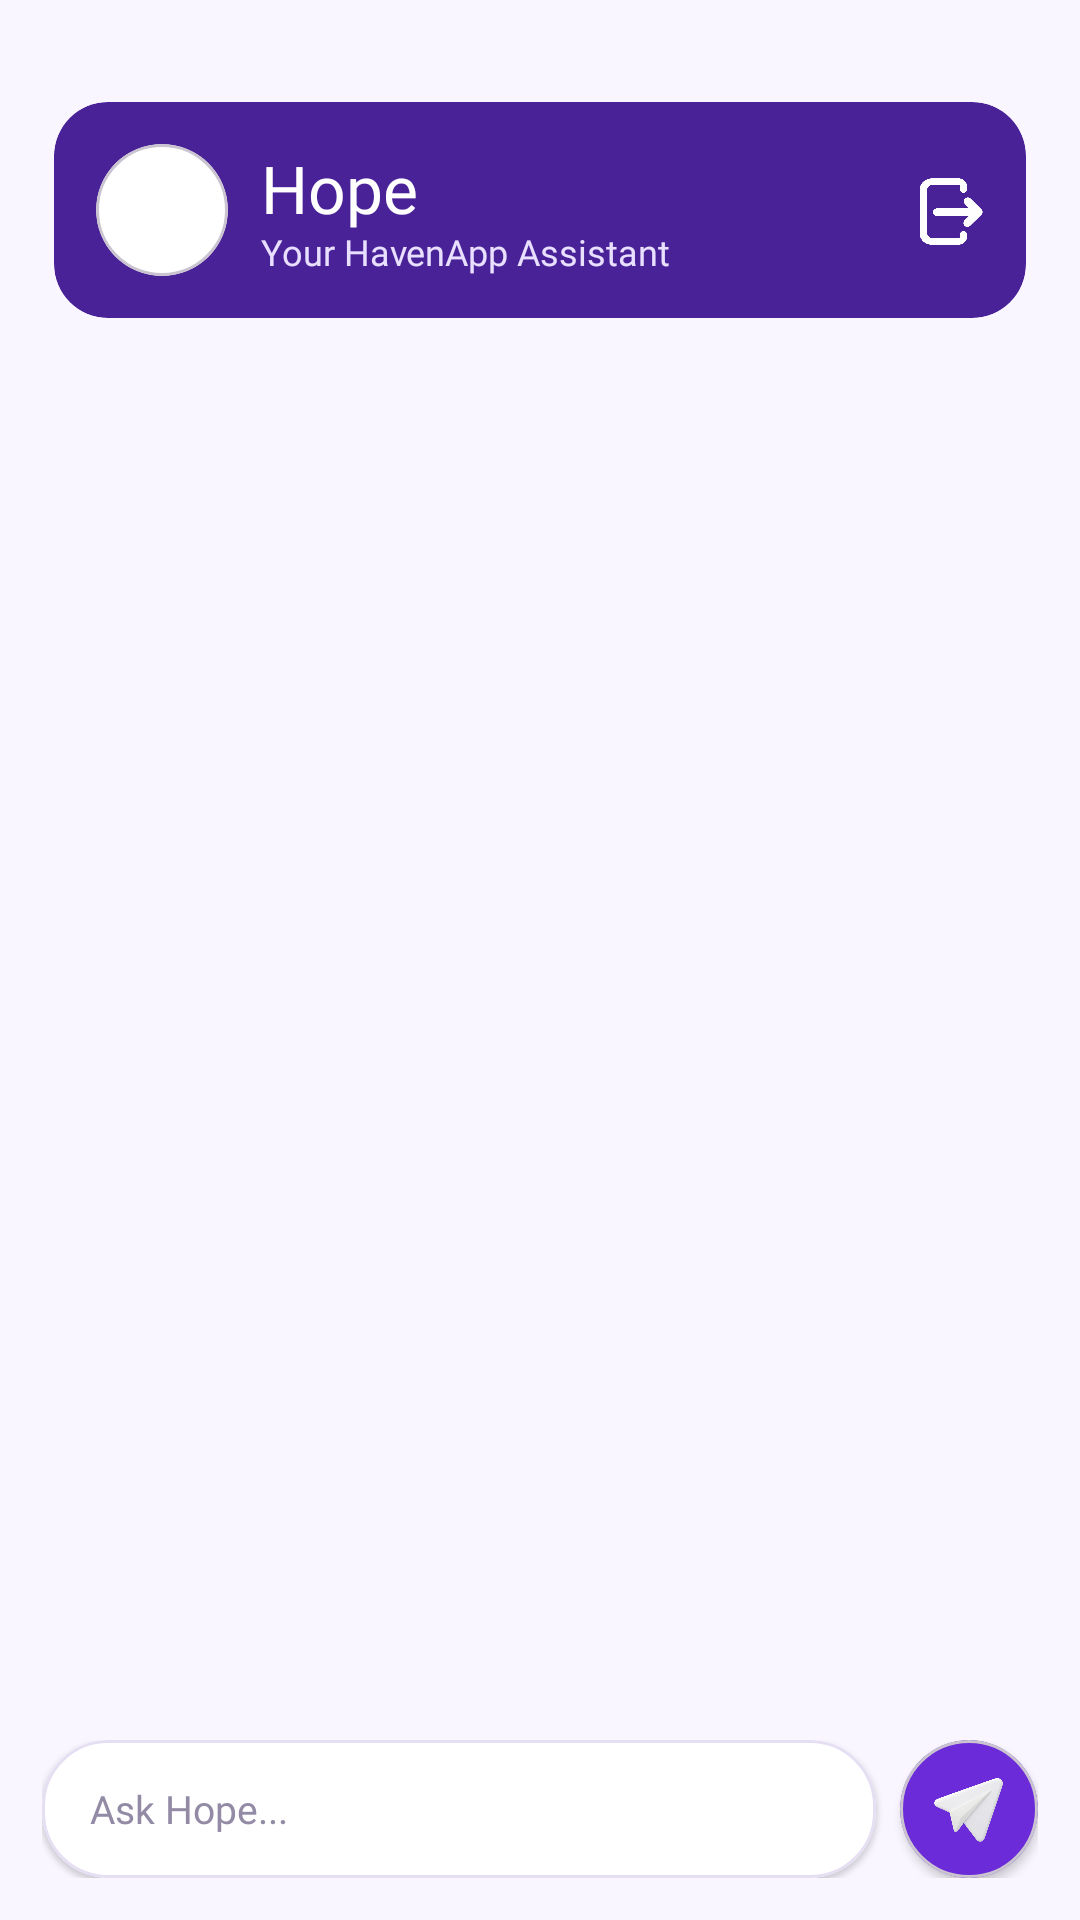

Icons on this 1080*1920 Android screen, each with the point to tap as point (x, y):
Send message: point (969, 1809)
